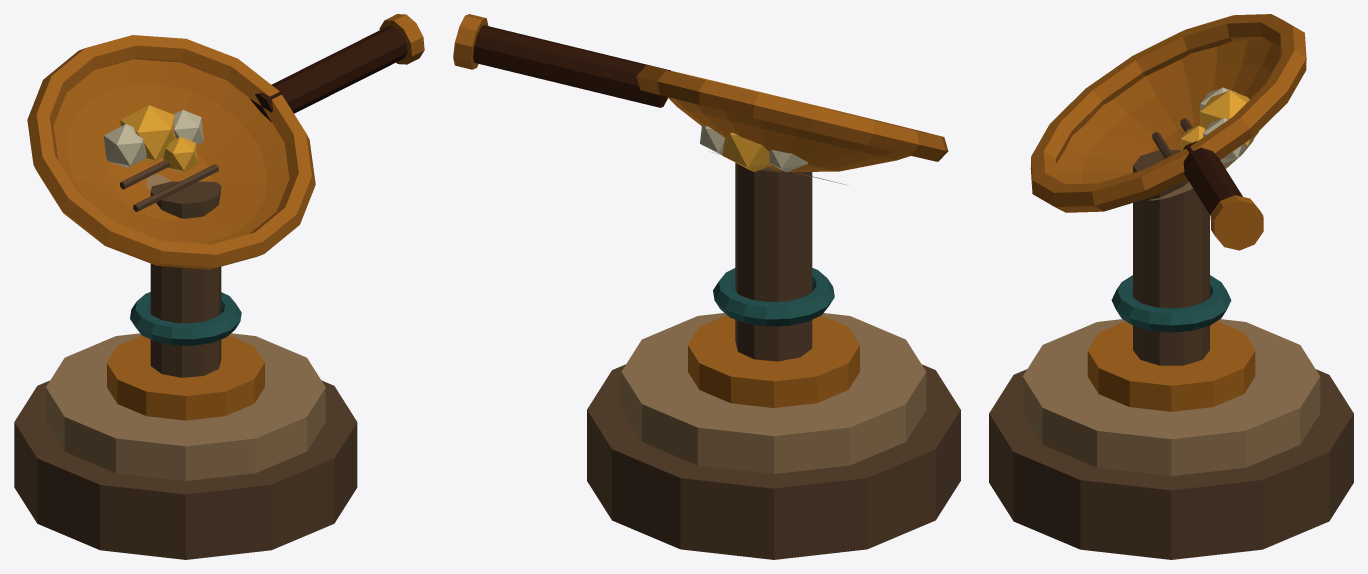
Rendered from pan_monument.glb.
The picture shows the model from 3 angles, left to right: view 1: azimuth 30°, elevation 25°; view 2: azimuth 150°, elevation 25°; view 3: azimuth 270°, elevation 25°; orthographic projection. The views are drawn at different scales.
Visible parts, largest first — view 1: pan_monument; view 2: pan_monument; view 3: pan_monument.
Boxes of the visible parts, x1,y1,x2,y2 form: pan_monument: [14, 14, 424, 559]; pan_monument: [453, 14, 960, 559]; pan_monument: [989, 14, 1353, 559].
Bounding box in the file's own units: 2.09 × 2 × 1.52.
Materials: 1 (1 with a texture image).
